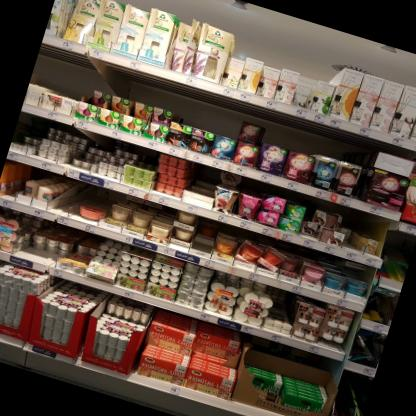empty_space: (16, 239, 66, 268), (186, 162, 220, 202), (55, 179, 90, 217), (266, 288, 298, 328), (190, 226, 218, 256), (87, 184, 115, 212)
